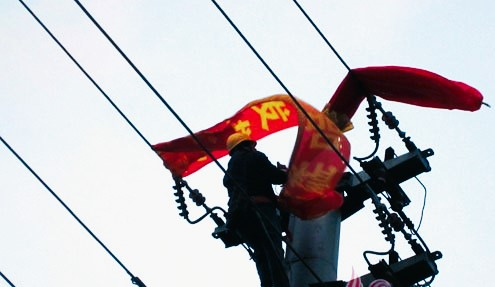wire foreign body: (145, 54, 488, 185)
